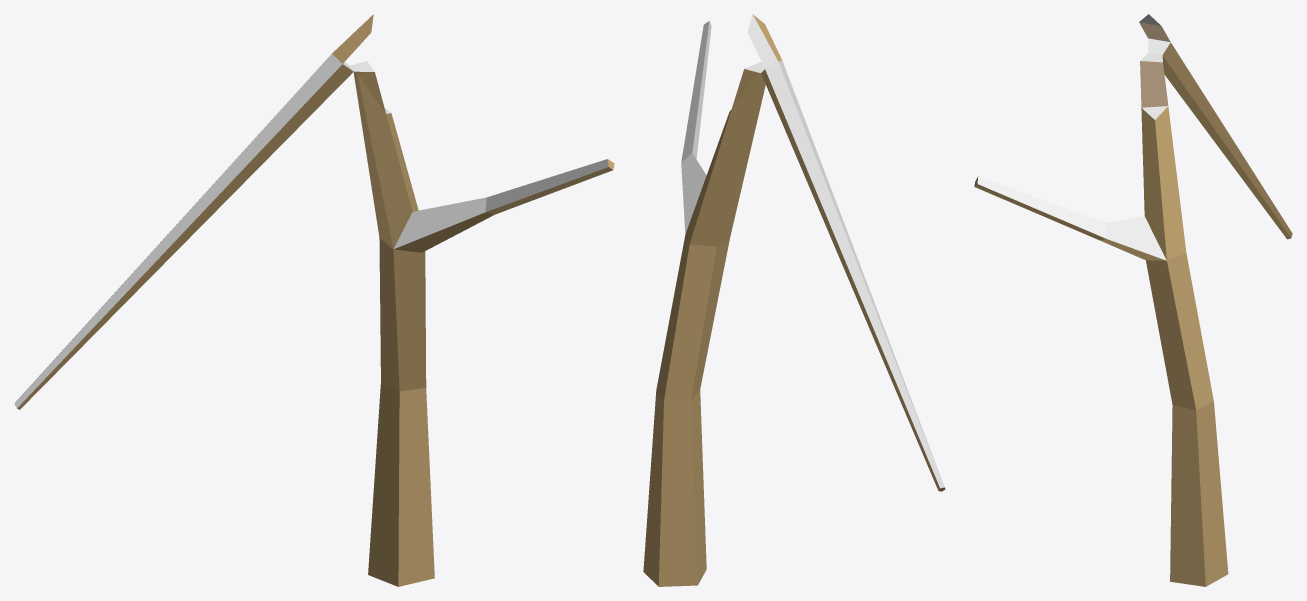
The model's file is Simple_Tree_NoLeaves_crk_s_Snow_BT_02.fbx.
3 views of the same model, side by side, from view 1: azimuth 30°, elevation 25°; view 2: azimuth 150°, elevation 25°; view 3: azimuth 270°, elevation 25° (orthographic). The views are drawn at different scales.
Visible parts, largest first — view 1: Simple_Tree_NoLeaves_crk_s_Snow_BT_02; view 2: Simple_Tree_NoLeaves_crk_s_Snow_BT_02; view 3: Simple_Tree_NoLeaves_crk_s_Snow_BT_02.
Part boxes in pixels (left/top/right/bottom): Simple_Tree_NoLeaves_crk_s_Snow_BT_02: left=14, top=14, right=614, bottom=586; Simple_Tree_NoLeaves_crk_s_Snow_BT_02: left=643, top=14, right=945, bottom=586; Simple_Tree_NoLeaves_crk_s_Snow_BT_02: left=974, top=14, right=1292, bottom=586.
Size of the model in its own units: 181 by 239 by 129.
